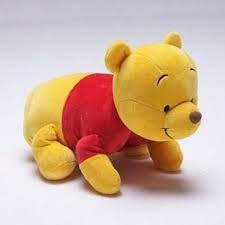Winnie: (91, 29, 205, 158)
